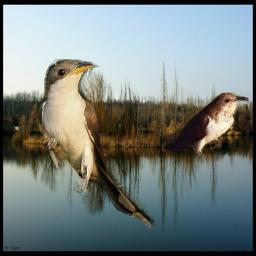Cuckoo: (37, 59, 157, 232), (160, 92, 249, 157)
